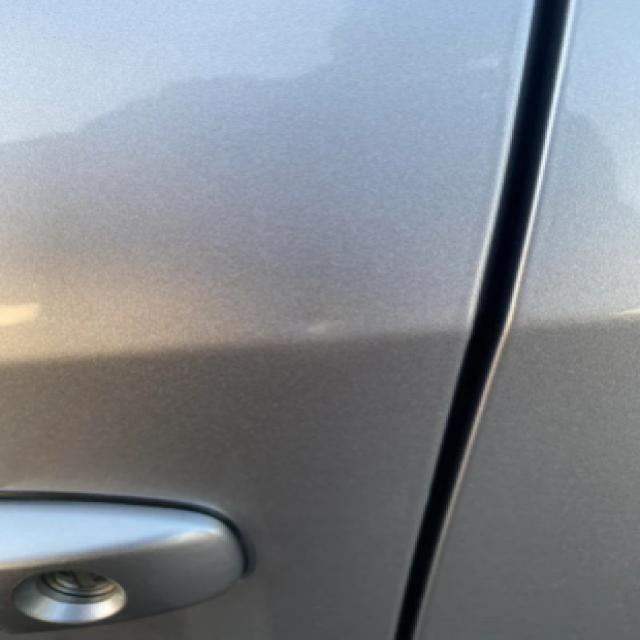dents: (264, 291, 402, 371)
